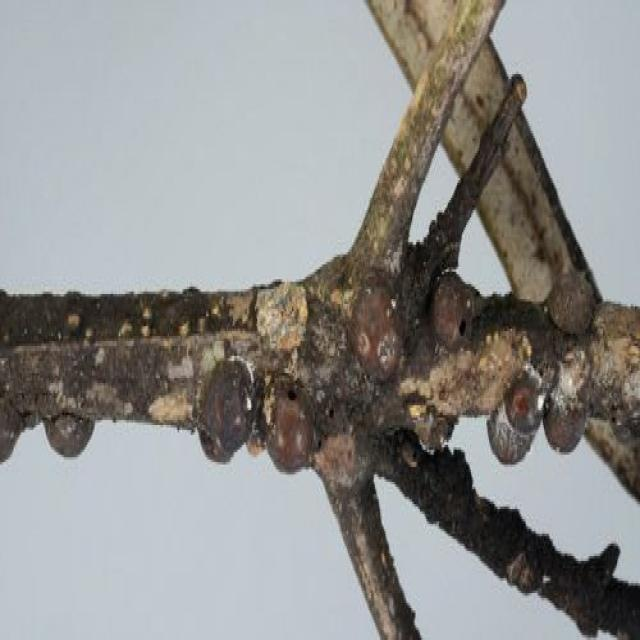BlackScale: (488, 361, 588, 462), (197, 356, 260, 462), (348, 267, 402, 378), (264, 376, 314, 478), (546, 264, 600, 334), (428, 270, 468, 356), (44, 410, 94, 457), (0, 393, 23, 462)
